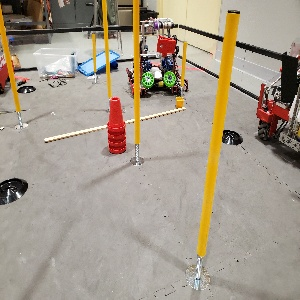Red_4: (104, 93, 130, 159)
